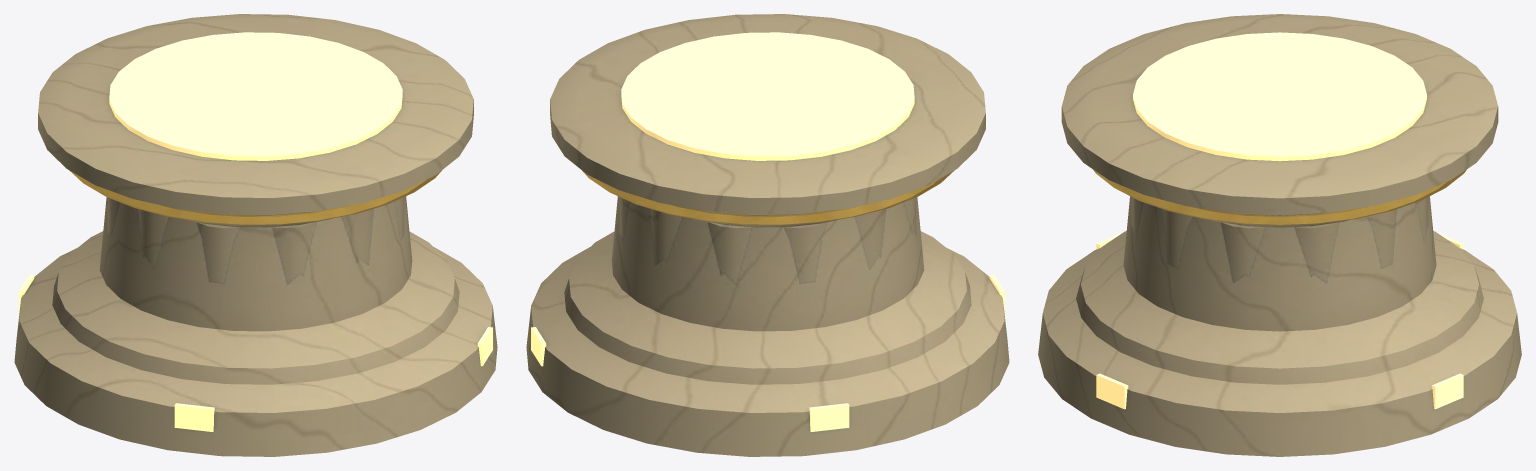
File: pedestal.glb
3 views of the same model, side by side, from view 1: azimuth 30°, elevation 25°; view 2: azimuth 150°, elevation 25°; view 3: azimuth 270°, elevation 25° (orthographic).
Parts seen in each view (by area): view 1: pedestal; view 2: pedestal; view 3: pedestal.
Boxes of the visible parts, box(x1,y1,x2,y2) form: pedestal: box(14, 14, 497, 456); pedestal: box(526, 14, 1009, 456); pedestal: box(1038, 14, 1521, 456).
Bounding box in the file's own units: 1.94 × 1.15 × 1.94.
2 materials, 2 textured.
